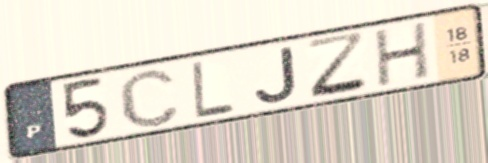5: (60, 73, 112, 142)
C: (115, 66, 183, 130)
H: (373, 18, 431, 91)
J: (252, 43, 302, 105)
L: (189, 58, 238, 120)
Z: (303, 28, 373, 102)
